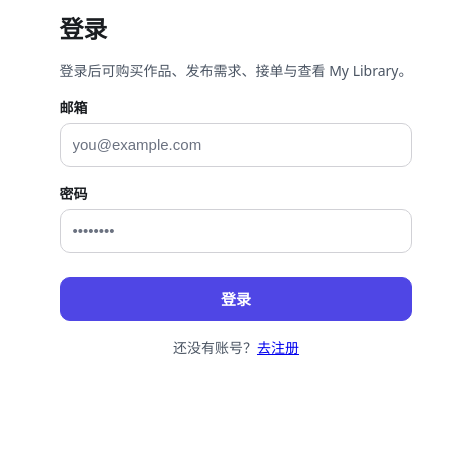
LoginPage（Epic #1） › shows validation error for invalid email
Type "not-an-email" into the field labelled "邮箱". click: (236, 145)
box: x1=60 y1=123 x2=412 y2=167
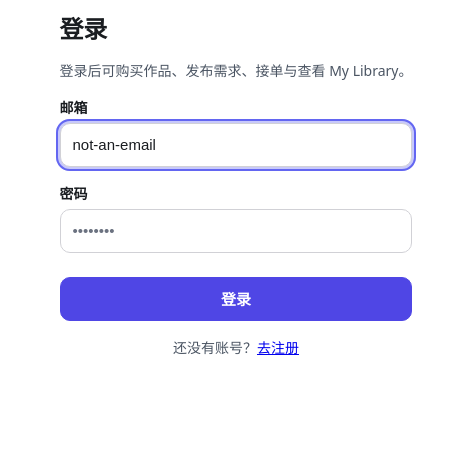
Type "secret123" into the password field labelled "密码". click: (236, 231)
box: x1=60 y1=209 x2=412 y2=253
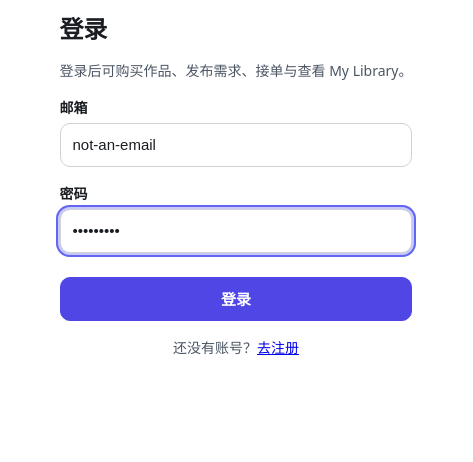
Click the button "登录". click: (236, 299)
box: x1=60 y1=277 x2=412 y2=321
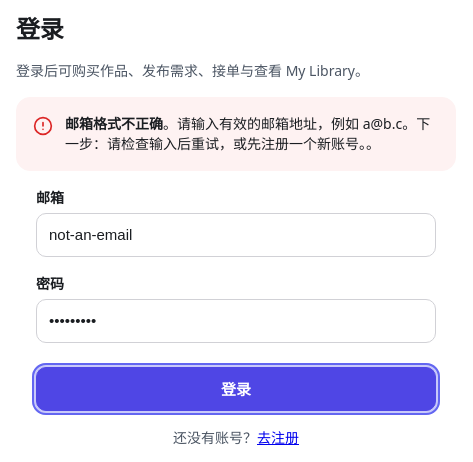
Check: the text "邮箱格式不正确" is shown, box x1=65 y1=114 x2=163 y2=133
